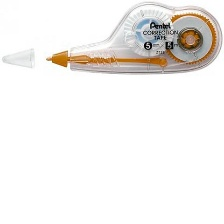correction_fluid: (42, 0, 223, 76)
